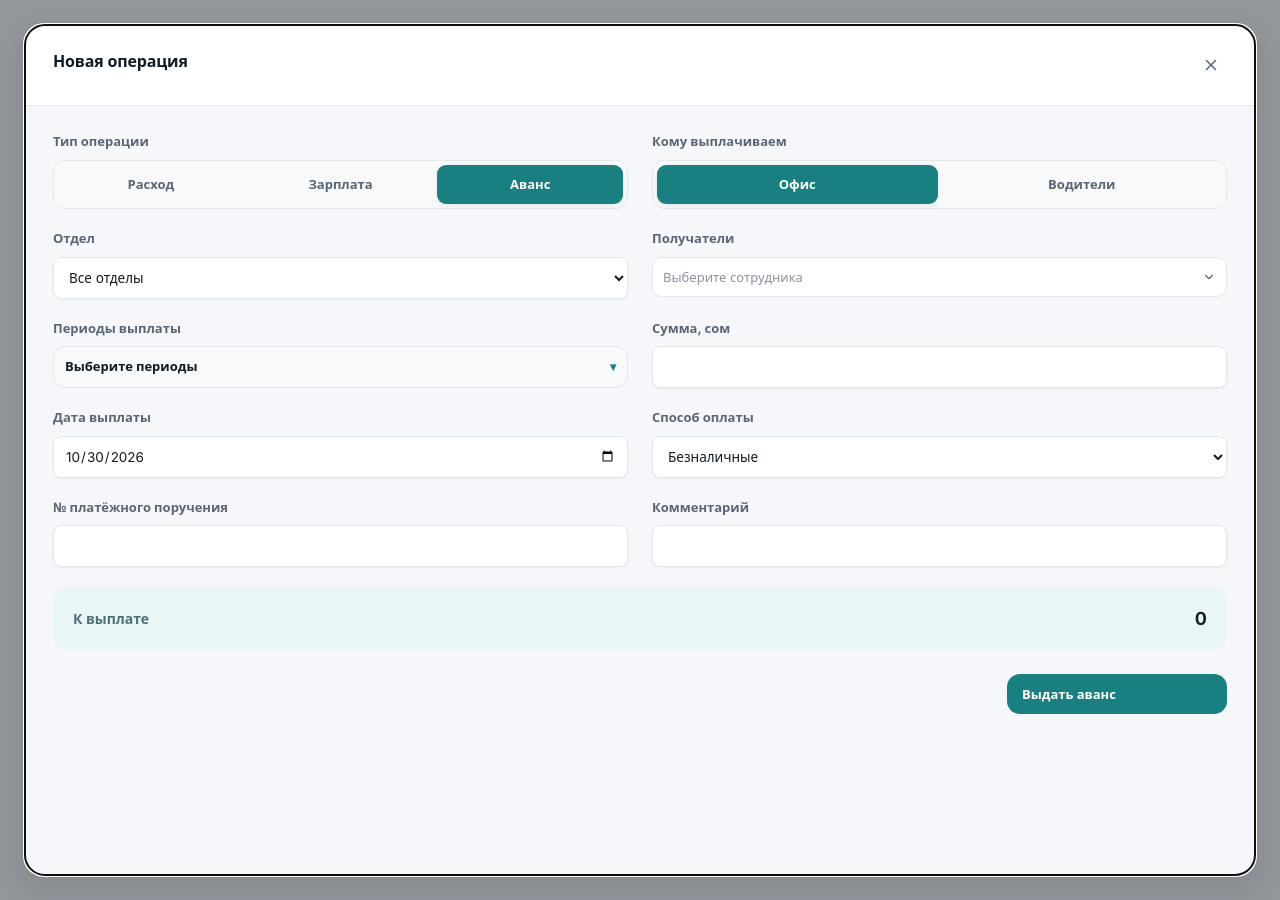
Test: office and drivers retain the same main fields without an inline driver list
Expected: the dropdown labelled "Отдел" is shown, [53,256,628,298]
Expected: the button with aria-label "Получатели" is shown, [652,256,1227,296]
Click the button "Водители" at (1082, 184), box [942,164,1222,204]
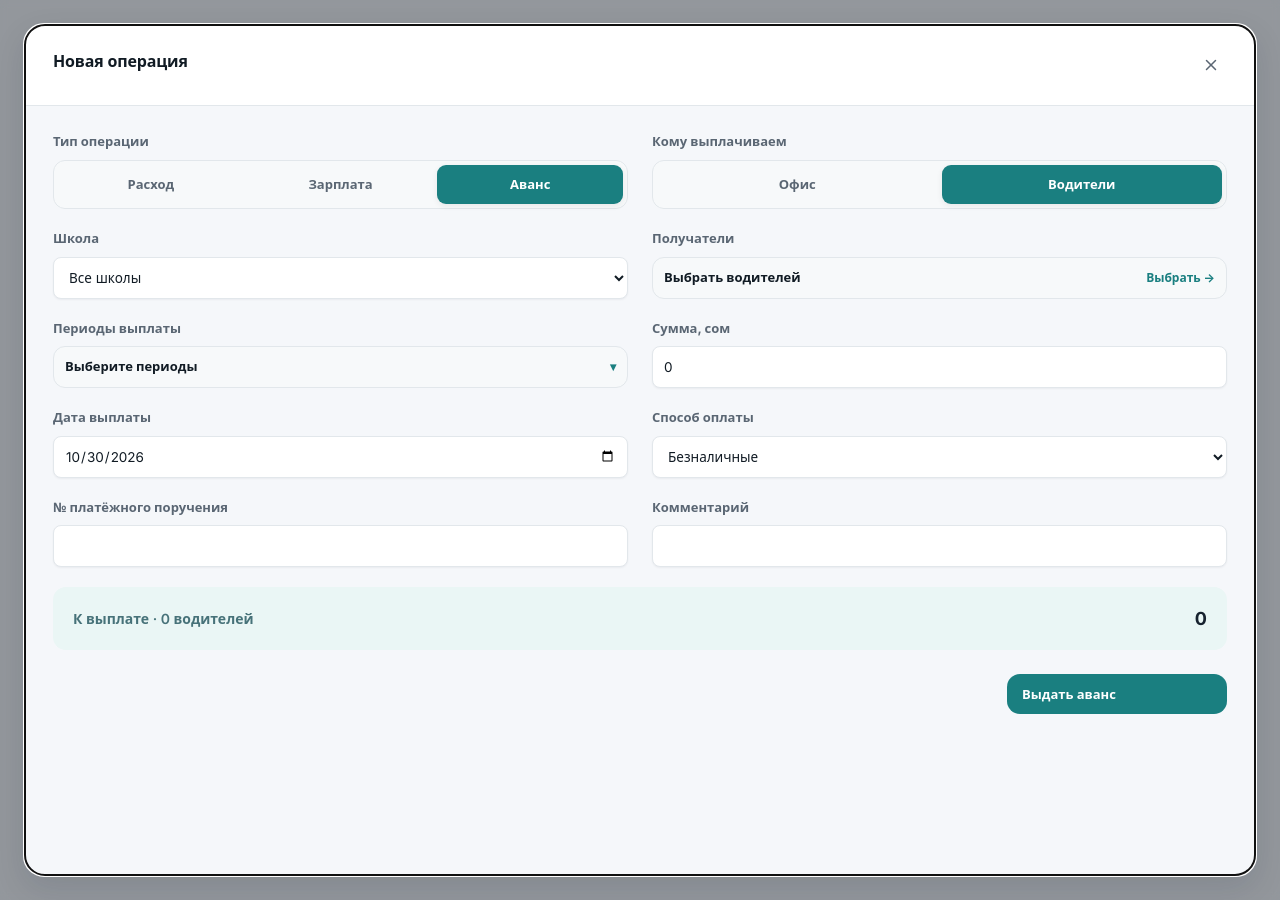
Expected: the dropdown labelled "Школа" is shown, [53,256,628,298]
Expected: the button named "Получатели" is shown, [652,256,1227,298]
